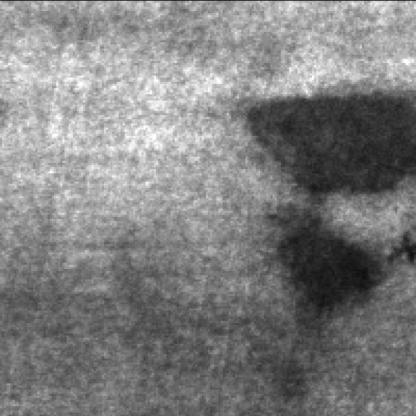patches: (253, 93, 416, 195), (281, 214, 393, 327)
